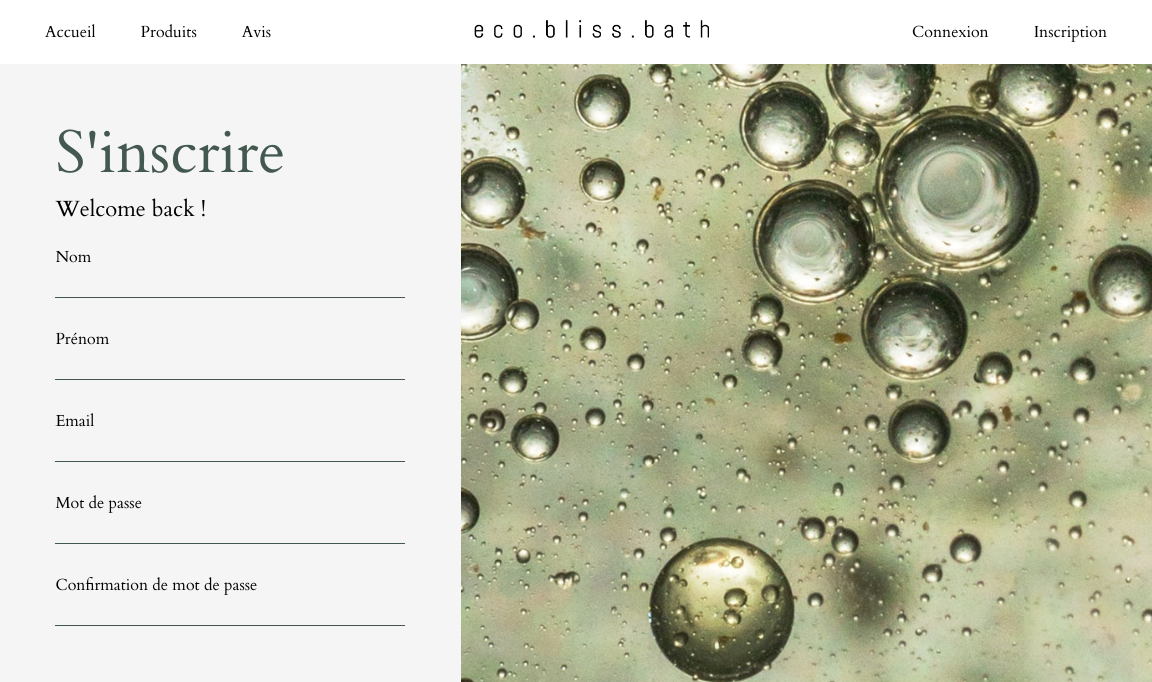
Scenario: Inscription › Ne devrait pas enregistrer un utilisateur car il est déjà utilisé
Type "Test3" into the field with test id "register-input-lastname" at (230, 283), box [55,268,405,298]
Type "T3" into the field with test id "register-input-firstname" at (230, 365), box [55,350,405,380]
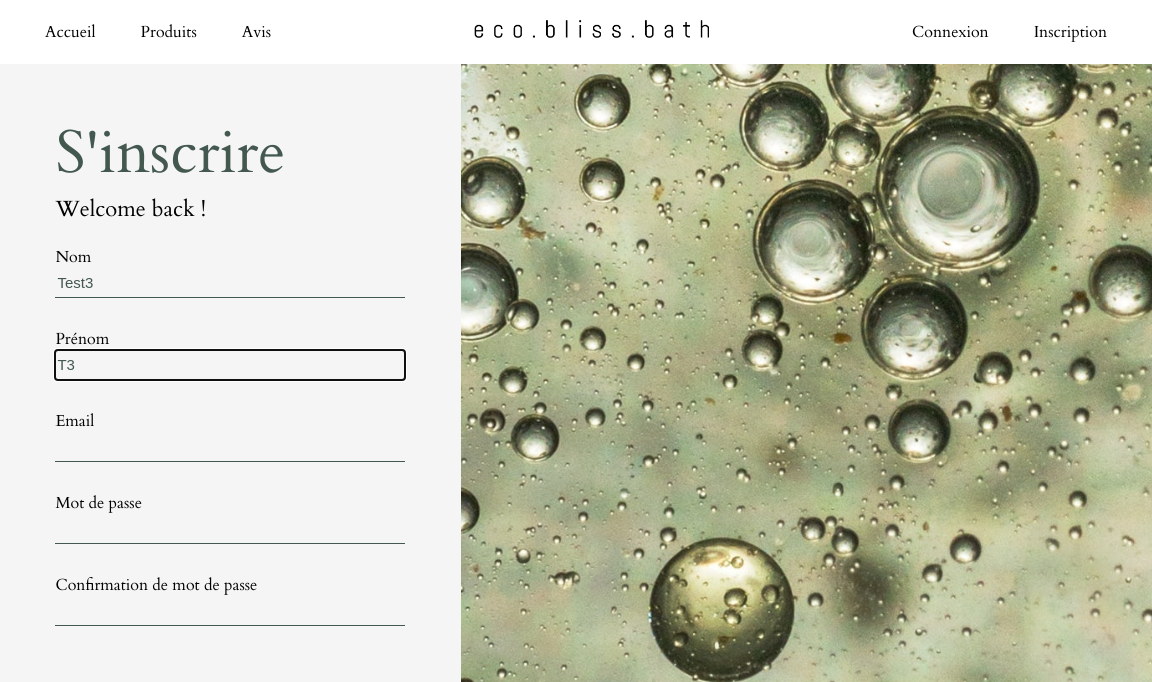
Type "test3@test.test" into the field with test id "register-input-email" at (230, 447), box [55,432,405,462]
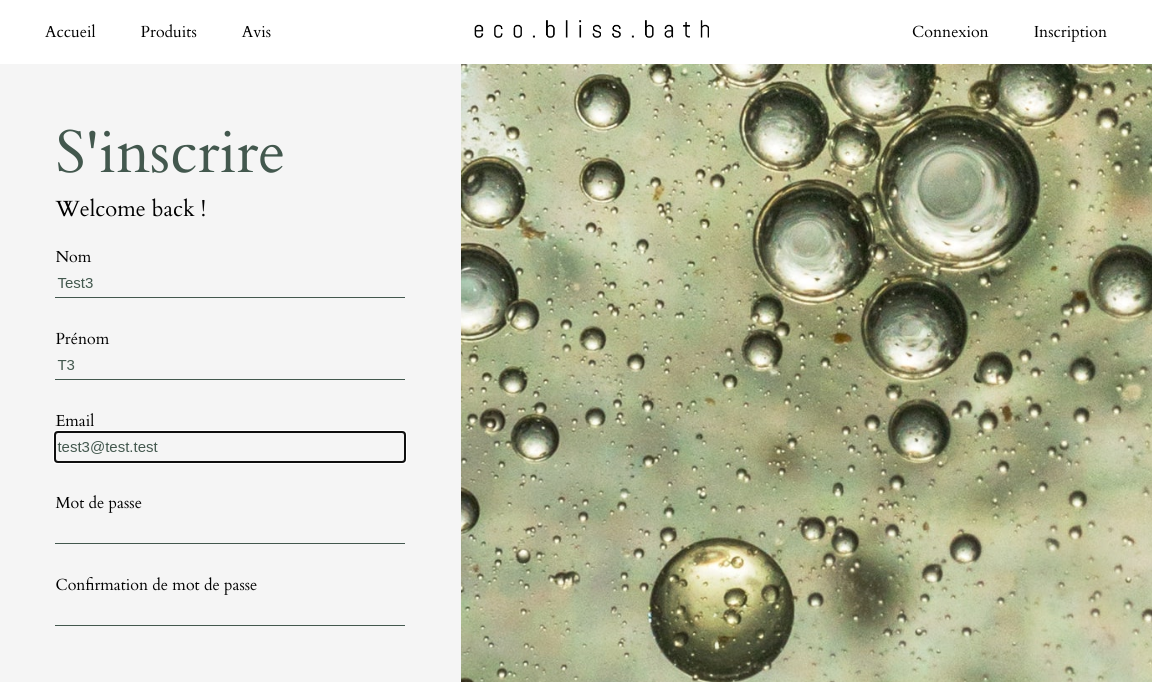
Type "testtest" into the password field with test id "register-input-password" at (230, 529), box [55,514,405,544]
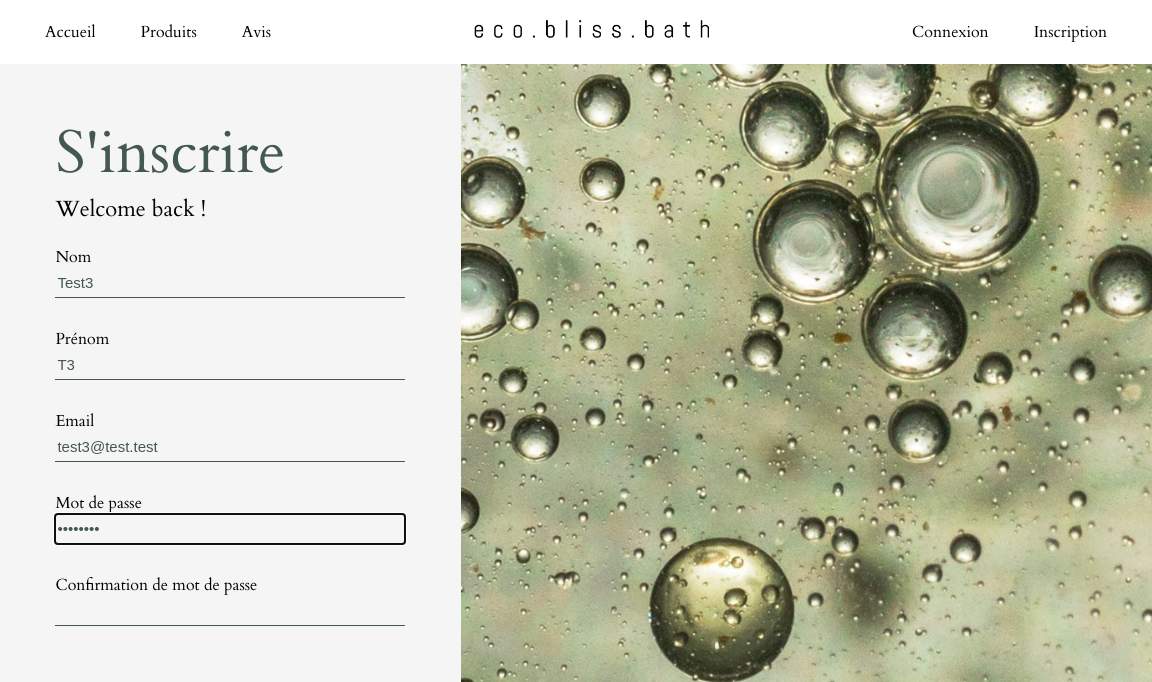
Type "testtest" into the password field with test id "register-input-password-confirm" at (230, 611), box [55,596,405,626]
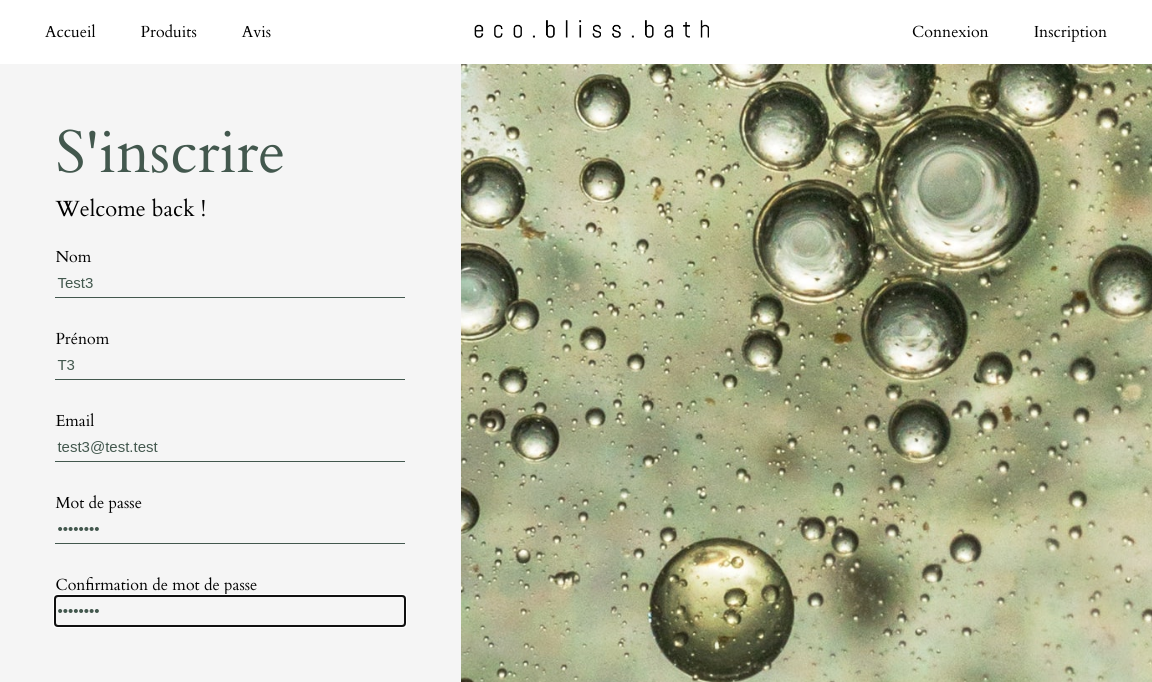
Scroll
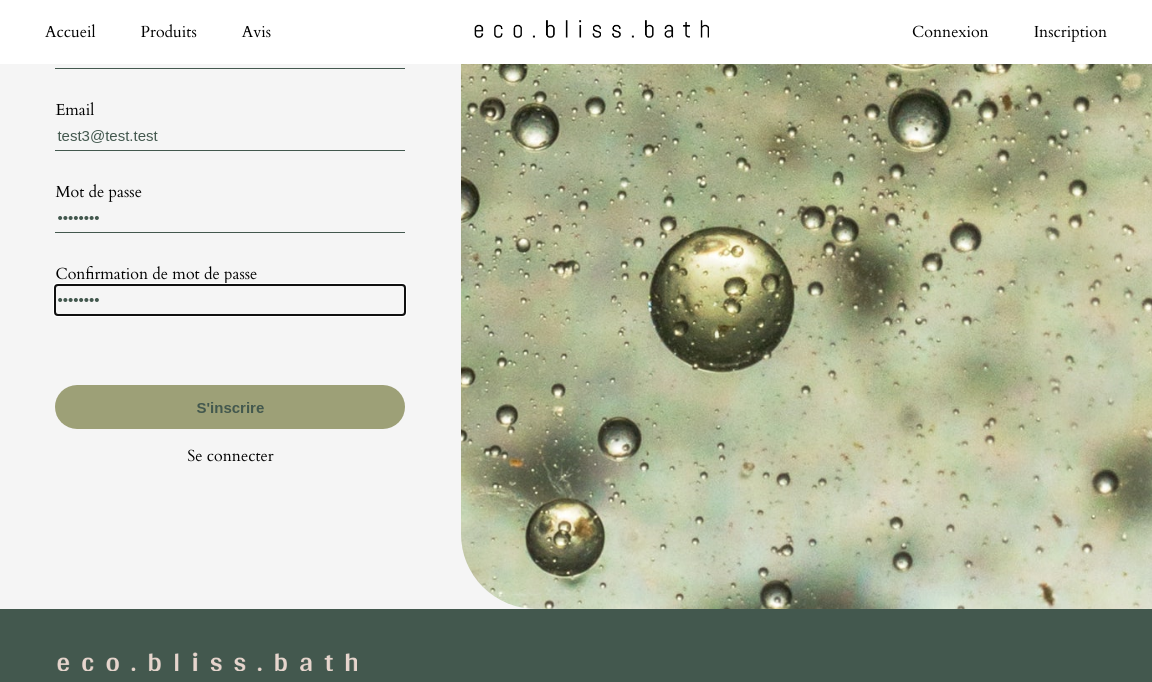
Click the button with test id "register-submit" at (230, 407), box [55,385,405,429]
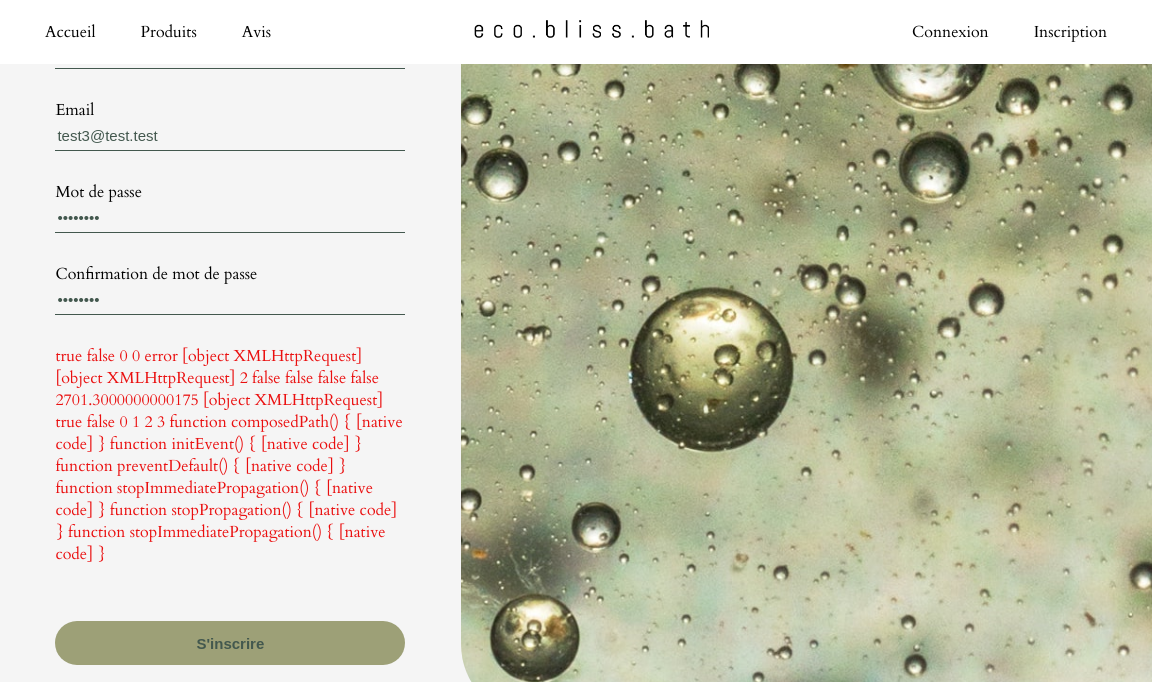
Check: the text with test id "register-errors" is shown, box [55,345,405,565]
